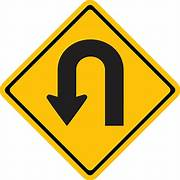back: (2, 1, 180, 178)
